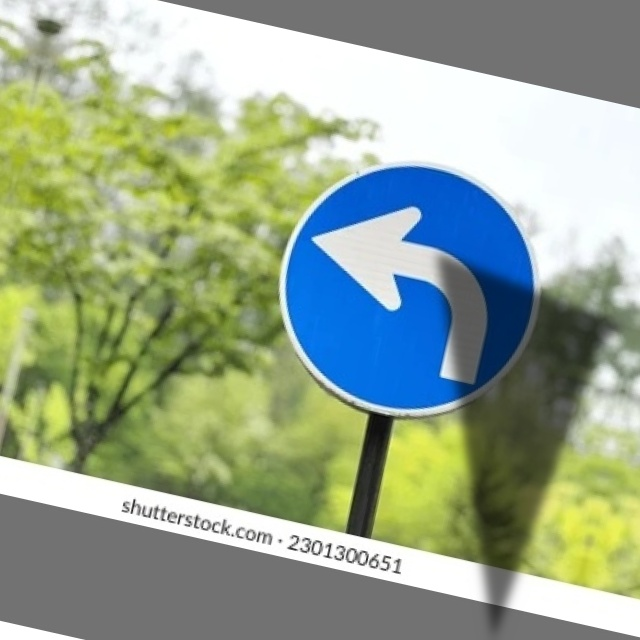Compulsory_Turn_Left_Ahead: (250, 136, 563, 442)
